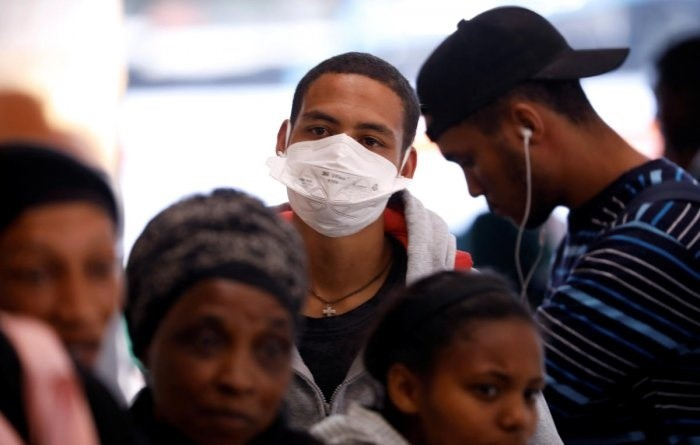face_no_mask: (423, 21, 595, 234), (145, 234, 292, 436), (6, 180, 127, 385)
face_with_mask: (272, 49, 418, 241)
